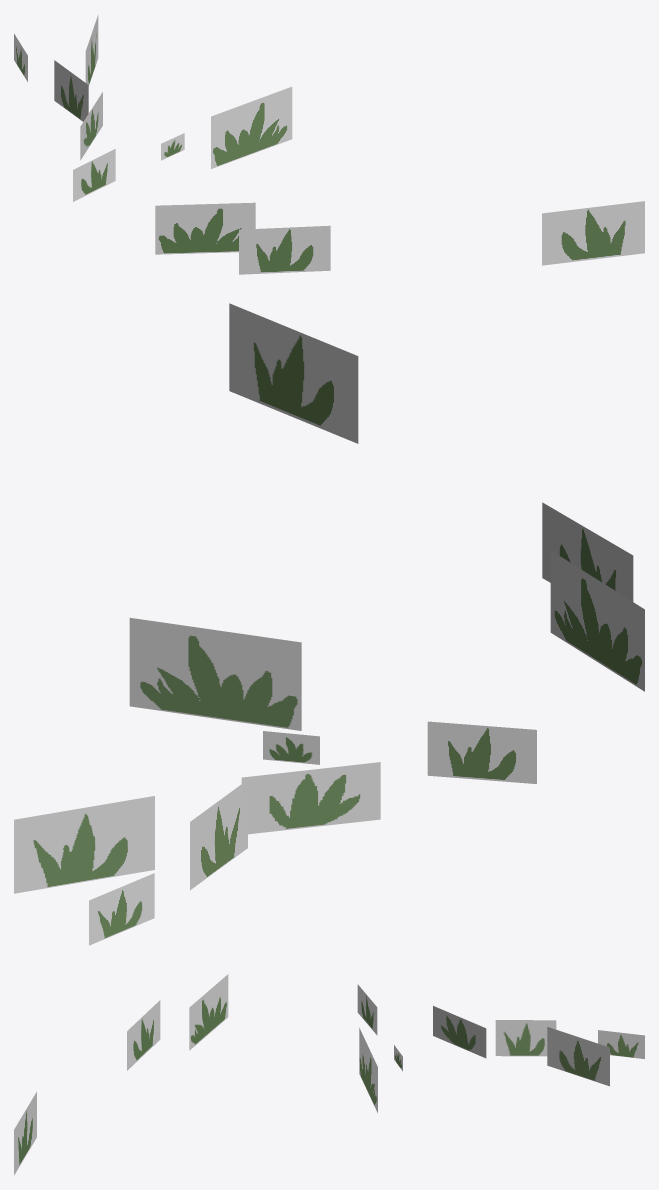
File: Mesh_Battle_Forest_Ground_06.FBX
The picture shows the model from 3 angles, top to bottom: view 1: azimuth 30°, elevation 25°; view 2: azimuth 150°, elevation 25°; view 3: azimuth 270°, elevation 25°; orthographic projection. The views are drawn at different scales.
Parts seen in each view (by area): view 1: Mesh_Battle_Forest_Grass_05; view 2: Mesh_Battle_Forest_Grass_05; view 3: Mesh_Battle_Forest_Grass_05.
Part boxes in pixels (<box>): Mesh_Battle_Forest_Grass_05: <box>14,15,644,274</box>; Mesh_Battle_Forest_Grass_05: <box>14,303,644,945</box>; Mesh_Battle_Forest_Grass_05: <box>14,974,644,1175</box>.
Size of what is drawn, in the model's own units: 114 by 16.09 by 188.
